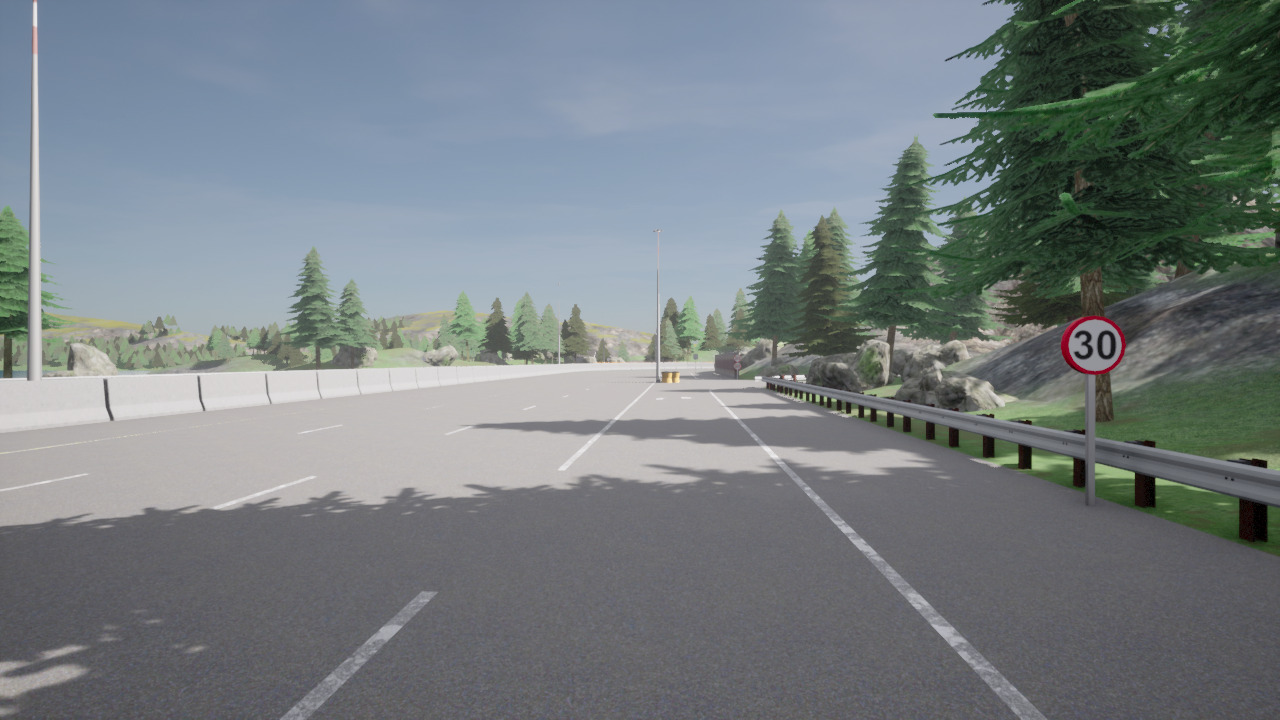sl30: (1060, 315, 1127, 376)
